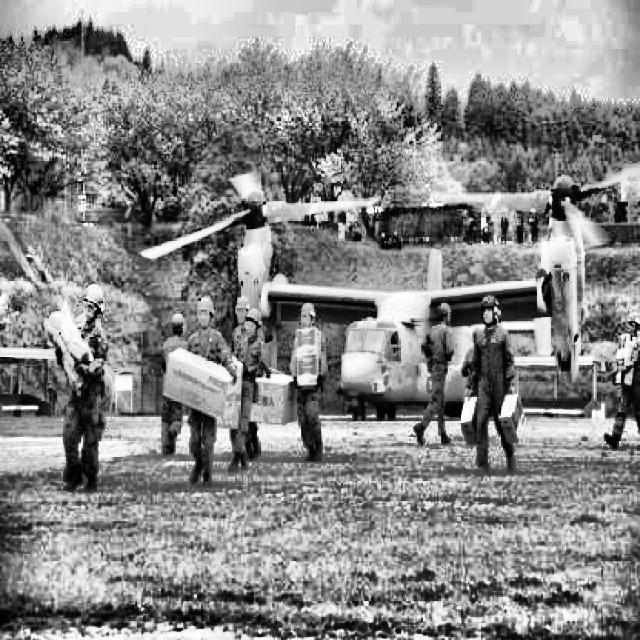V22: (138, 173, 640, 421)
